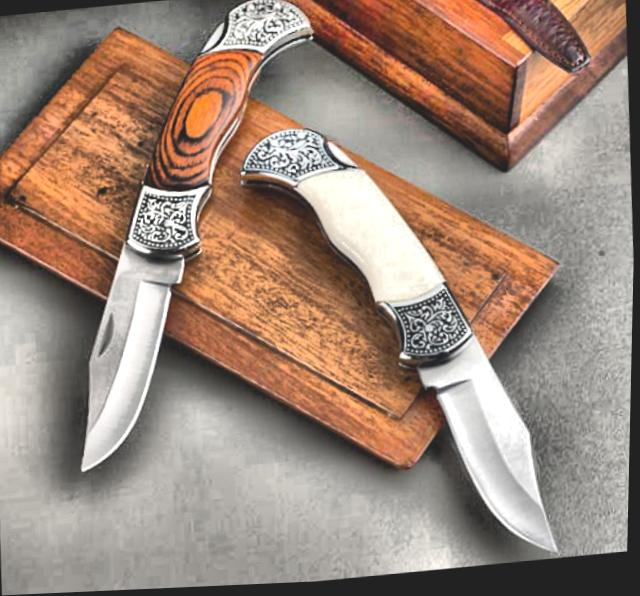knife: (372, 287, 574, 576), (60, 155, 231, 484)
